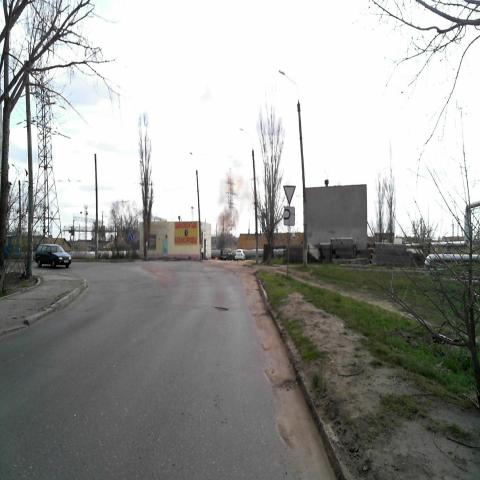2_4: (284, 185, 296, 205)
